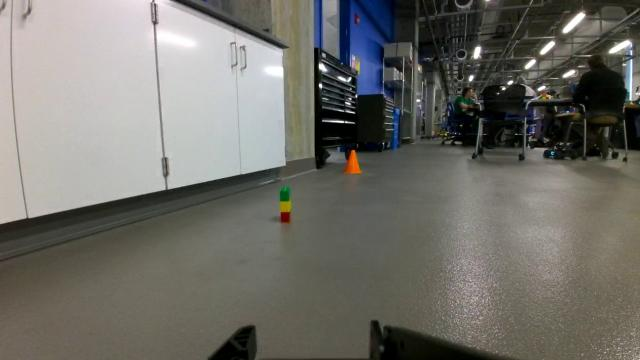lego: (275, 180, 301, 228)
